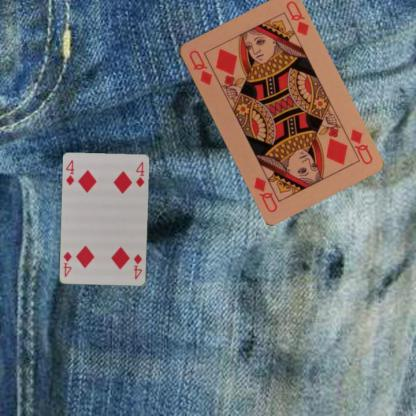4d: (63, 158, 76, 186), (131, 252, 143, 281)
Qd: (340, 124, 374, 166), (186, 48, 213, 88)
